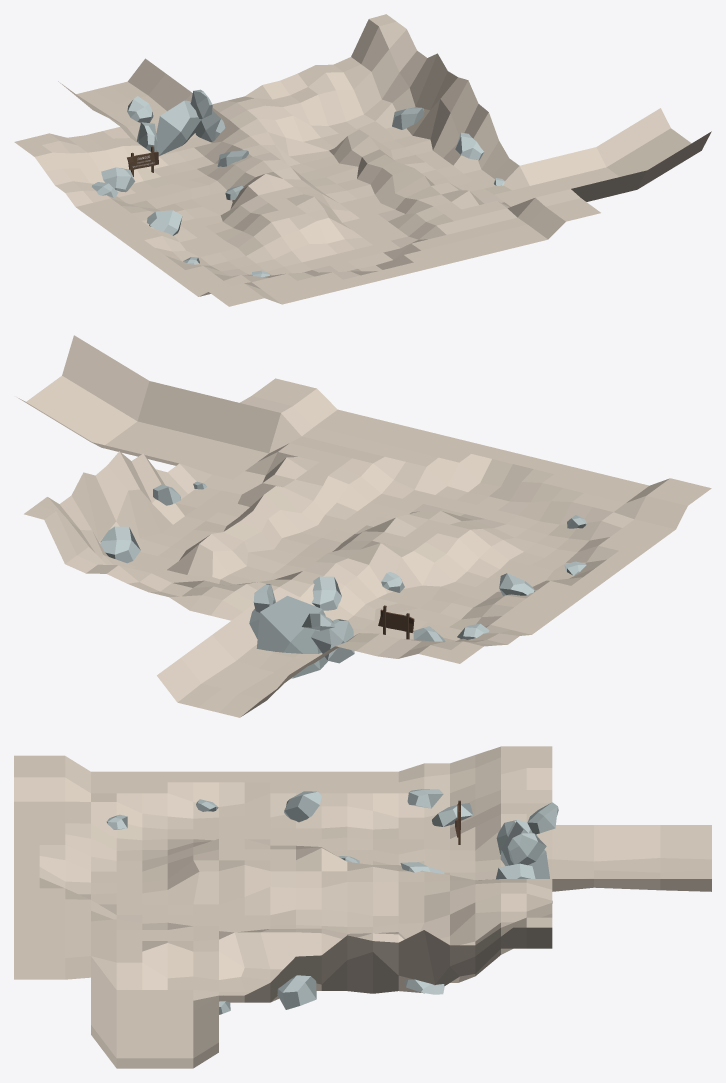
The model's file is 042820map1ShadowReceivers.gltf.
3 views of the same model, one above another, from view 1: azimuth 30°, elevation 25°; view 2: azimuth 150°, elevation 25°; view 3: azimuth 270°, elevation 25° (orthographic). The views are drawn at different scales.
Parts seen in each view (by area): view 1: Plane, Cube.027, Cube.019, Cube.015, Cube.018, Cube.023, Cube.024, Cube.030, Cube.029, Cube.028; view 2: Plane, Cube.027, Cube.029, Cube.023, Cube.017; view 3: Plane, Cube.024, Cube.028, Cube.019, Cube.027, Cube.030, Cube.015, Cube.014, Cube.018.
Boxes of the visible parts, left/top/right/bottom form: Plane: left=14, top=14, right=711, bottom=306; Cube.027: left=156, top=100, right=201, bottom=155; Cube.019: left=147, top=210, right=182, bottom=235; Cube.015: left=101, top=167, right=135, bottom=192; Cube.018: left=195, top=110, right=225, bottom=141; Cube.023: left=392, top=107, right=424, bottom=129; Cube.024: left=455, top=132, right=483, bottom=160; Cube.030: left=127, top=96, right=153, bottom=122; Cube.029: left=137, top=122, right=157, bottom=151; Cube.028: left=190, top=89, right=212, bottom=118; Plane: left=17, top=335, right=711, bottom=717; Cube.027: left=256, top=596, right=327, bottom=678; Cube.029: left=311, top=619, right=354, bottom=663; Cube.023: left=100, top=526, right=140, bottom=563; Cube.017: left=311, top=576, right=341, bottom=610; Plane: left=14, top=746, right=711, bottom=1068; Cube.024: left=277, top=975, right=316, bottom=1009; Cube.028: left=507, top=833, right=546, bottom=865; Cube.019: left=284, top=791, right=321, bottom=822; Cube.027: left=500, top=821, right=552, bottom=903; Cube.030: left=527, top=802, right=558, bottom=834; Cube.015: left=432, top=803, right=472, bottom=826; Cube.014: left=407, top=789, right=443, bottom=808; Cube.018: left=496, top=863, right=535, bottom=879.
Size of the model in its own units: 82.74 by 13.69 by 77.79.
17 materials, 1 textured.
